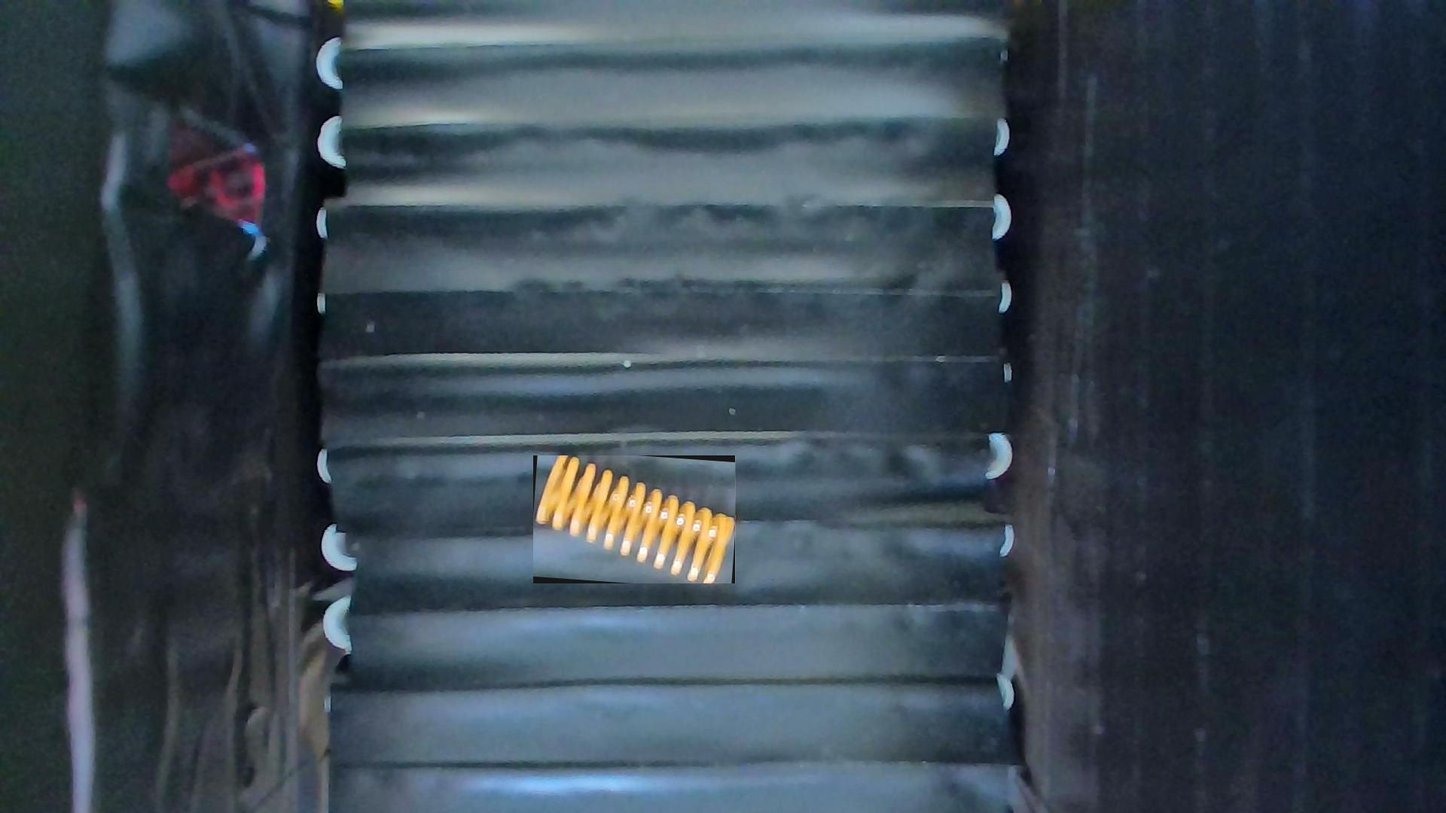spring: (534, 455, 736, 583)
